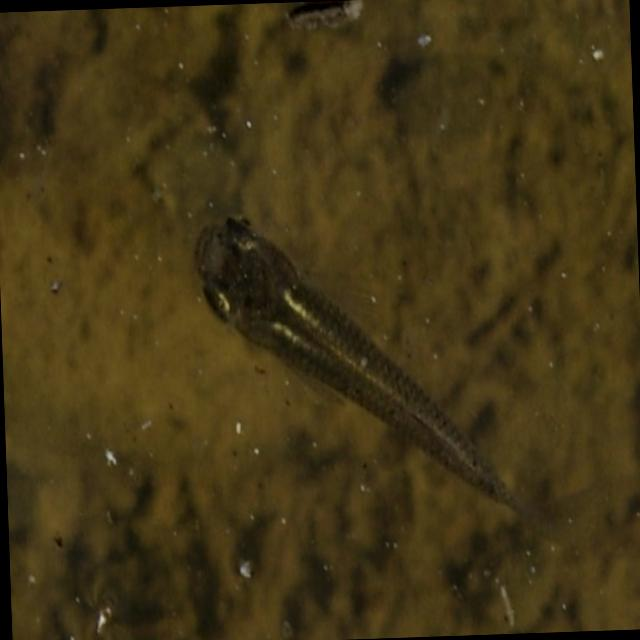Sivrisinek Baligi: (187, 196, 538, 534)
